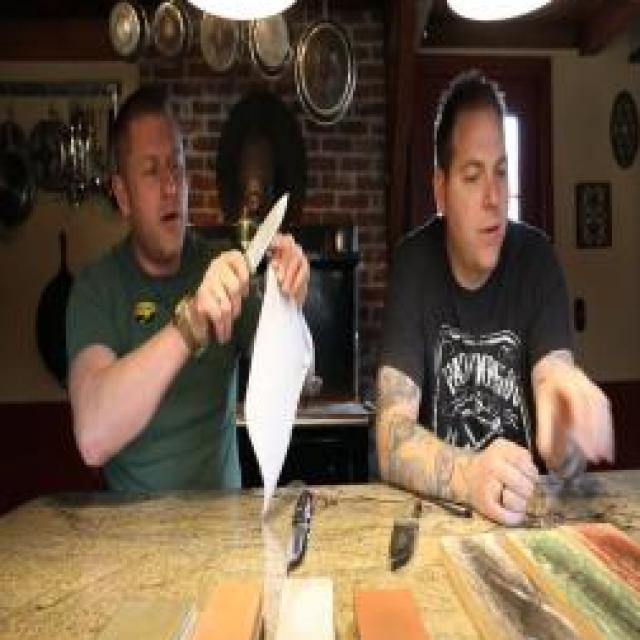knife: (216, 175, 300, 323)
